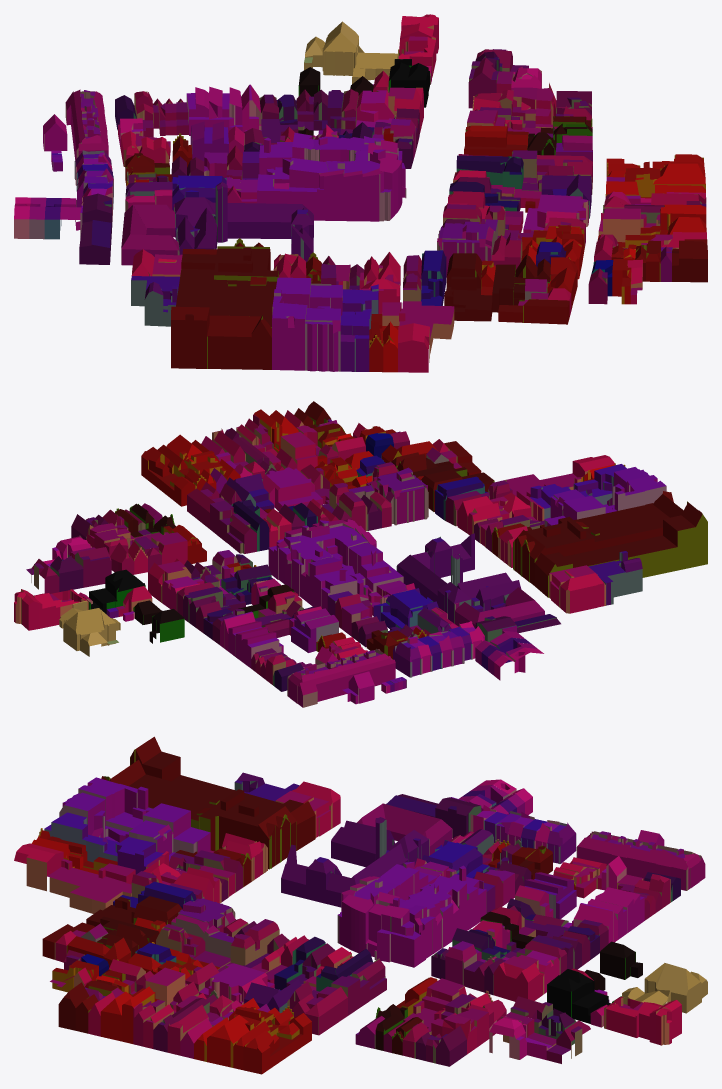
File: buildings_9_9.glb
The picture shows the model from 3 angles, top to bottom: view 1: azimuth 30°, elevation 25°; view 2: azimuth 150°, elevation 25°; view 3: azimuth 270°, elevation 25°; orthographic projection. The views are drawn at different scales.
Visible parts, largest first — view 1: buildings_9_9; view 2: buildings_9_9; view 3: buildings_9_9.
Part boxes in pixels (x1,y1,x2,y2): buildings_9_9: (14, 14, 707, 372); buildings_9_9: (14, 401, 707, 707); buildings_9_9: (14, 736, 707, 1074).
Bounding box in the file's own units: 221 × 21.09 × 230.
